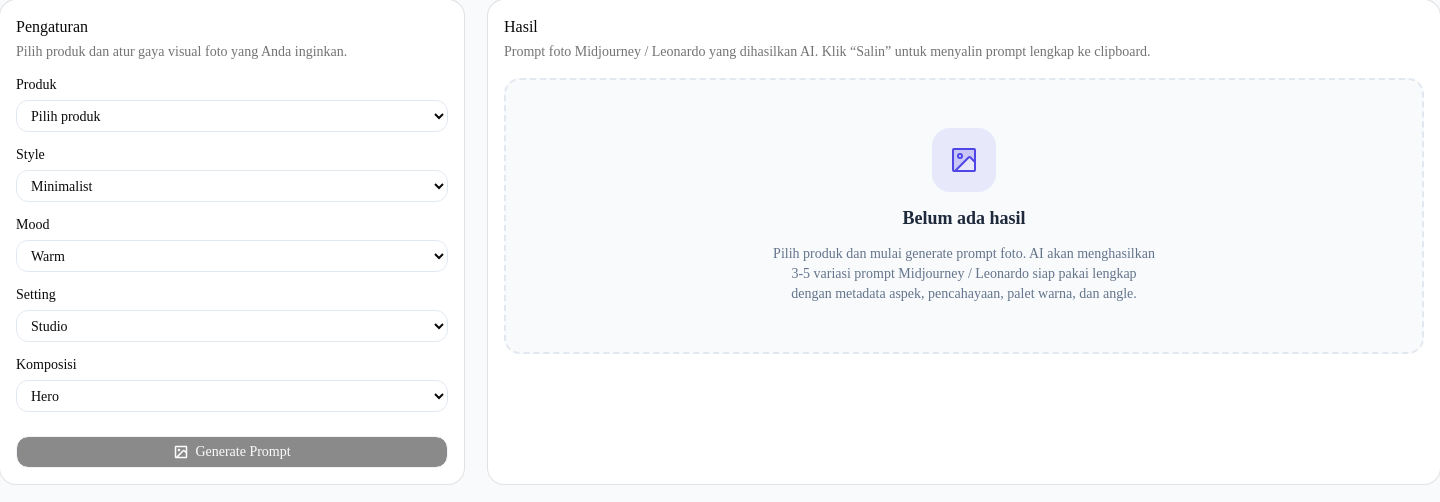
Test: PhotoGenerator › renders prompt text and metadata badges (Aspect Ratio, Lighting, Color Palette, Camera Angle) when results come back
Select "Sample Product A" in the dropdown labelled "Produk". click: (232, 116)
box: [16, 100, 448, 132]
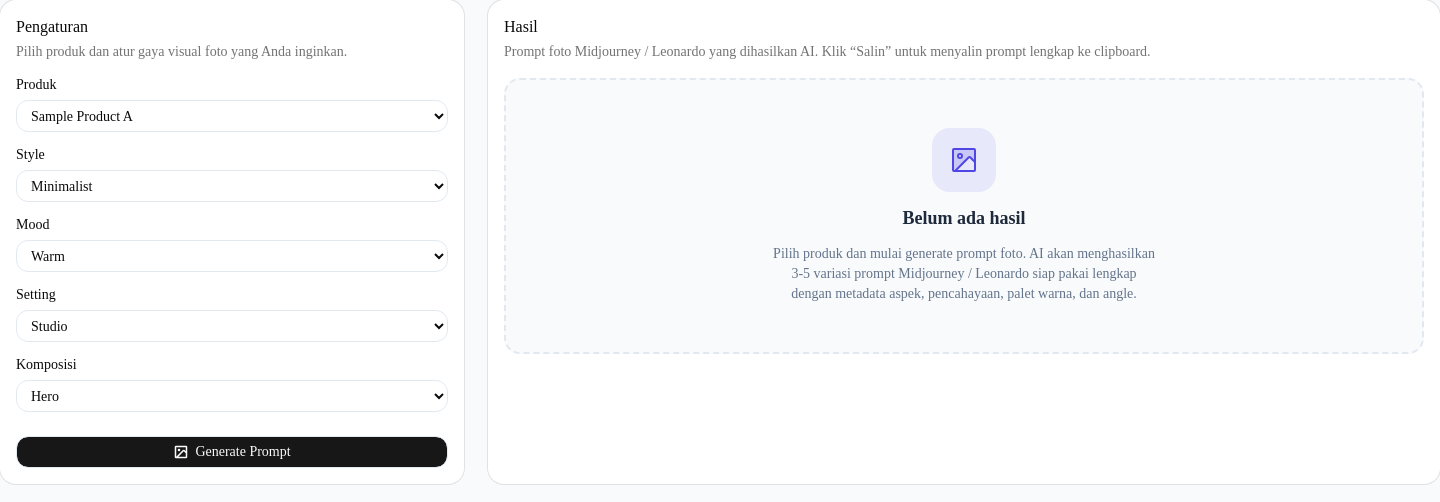
Click the button "Generate Prompt". click: (232, 452)
box: [16, 436, 448, 468]
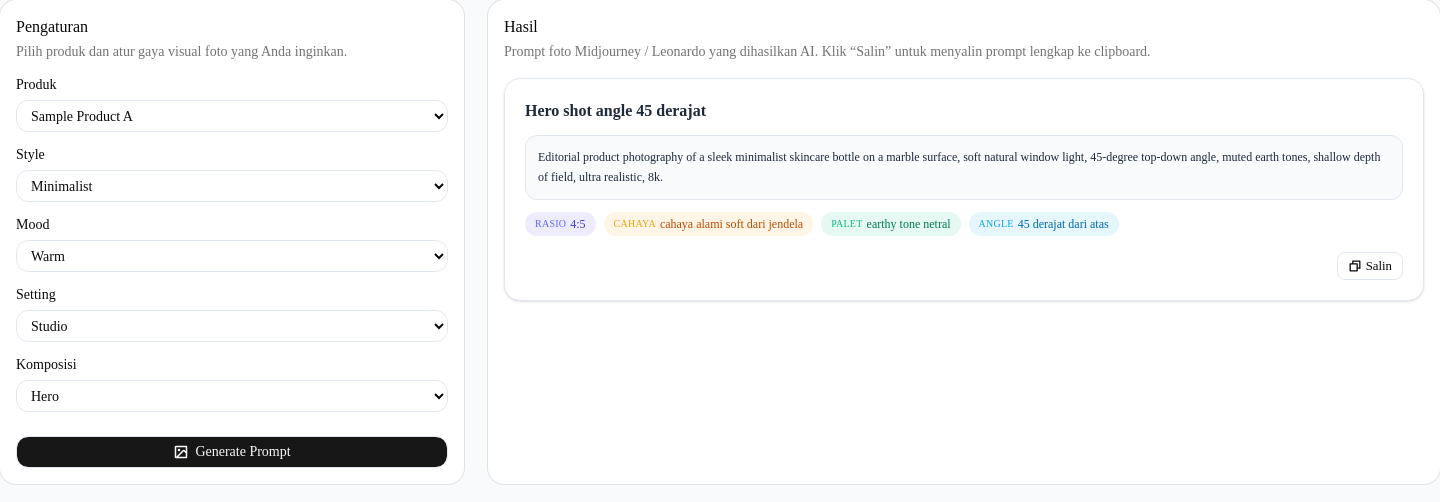
Now the heading "Hero shot angle 45 derajat" is shown, box [525, 99, 706, 123]
Now the text "Editorial product photography of a sleek" is shown, box [538, 150, 1383, 184]
Now the text "4:5" is shown, box [570, 216, 586, 232]
